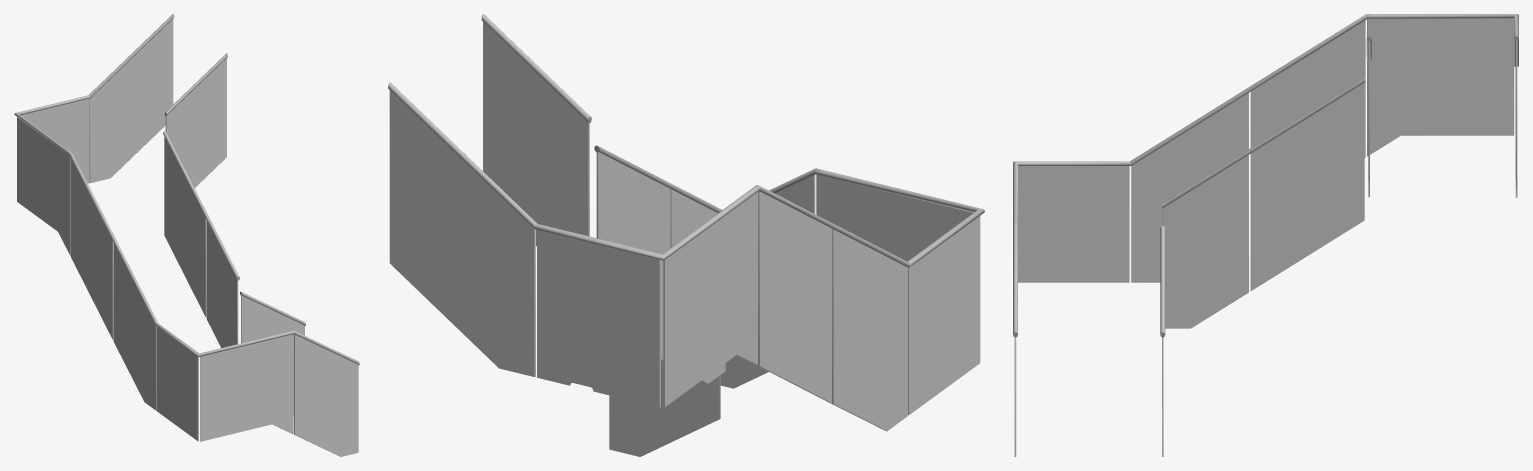
Rendered from U-Shaped_Railing_Optik-Boss_Wood-Cap.gltf.
3 views of the same model, side by side, from view 1: azimuth 30°, elevation 25°; view 2: azimuth 150°, elevation 25°; view 3: azimuth 270°, elevation 25° (orthographic). The views are drawn at different scales.
Parts seen in each view (by area): view 1: Casework 2 Casework 1 [8743341]001, Casework 4 Casework 1 [8744916]002, Casework 4 Casework 1 [8744916]004, Casework 2 Casework 1 [8743341]003, Casework 6 Casework 1 [8445804]002, Object010, Casework 5 Casework 1 [8445778]001, Casework 6 Casework 1 [8445804]004, Generic Models 11 Generic Models 11 [8762451]008, Generic Models 11 Generic Models 11 [8762451]003, Generic Models 7 Generic Models 1 [8445814]002, Object012; view 2: Casework 2 Casework 1 [8743341]001, Casework 4 Casework 1 [8744916]002, Casework 2 Casework 1 [8743341]003, Casework 5 Casework 1 [8445778]001, Casework 6 Casework 1 [8445804]002, Casework 4 Casework 1 [8744916]004, Casework 6 Casework 1 [8445804]004, Generic Models 11 Generic Models 11 [8762451]003, Generic Models 11 Generic Models 11 [8762451]008, Object010, Generic Models 11 Generic Models 11 [8762451]004, Generic Models 7 Generic Models 1 [8445814]002; view 3: Casework 6 Casework 1 [8445804]002, Casework 4 Casework 1 [8744916]002, Casework 2 Casework 1 [8743341]003, Generic Models 11 Generic Models 11 [8762451]008, Generic Models 7 Generic Models 1 [8445814]002, Generic Models 11 Generic Models 11 [8762451]003, Object012, Generic Models 7 Generic Models 1 [8445814]004, Object005.
Boxes of the visible parts, bbox=[...] form: Casework 2 Casework 1 [8743341]001: bbox=[21, 19, 173, 183]; Casework 4 Casework 1 [8744916]002: bbox=[17, 117, 113, 339]; Casework 4 Casework 1 [8744916]004: bbox=[200, 334, 293, 441]; Casework 2 Casework 1 [8743341]003: bbox=[113, 243, 198, 441]; Casework 6 Casework 1 [8445804]002: bbox=[164, 137, 238, 347]; Object010: bbox=[294, 334, 358, 456]; Casework 5 Casework 1 [8445778]001: bbox=[165, 58, 226, 187]; Casework 6 Casework 1 [8445804]004: bbox=[241, 295, 304, 415]; Generic Models 11 Generic Models 11 [8762451]008: bbox=[107, 227, 290, 356]; Generic Models 11 Generic Models 11 [8762451]003: bbox=[14, 14, 174, 153]; Generic Models 7 Generic Models 1 [8445814]002: bbox=[163, 131, 239, 280]; Object012: bbox=[67, 151, 109, 228]; Casework 2 Casework 1 [8743341]001: bbox=[389, 90, 660, 407]; Casework 4 Casework 1 [8744916]002: bbox=[663, 191, 832, 407]; Casework 2 Casework 1 [8743341]003: bbox=[832, 216, 980, 431]; Casework 5 Casework 1 [8445778]001: bbox=[483, 22, 589, 246]; Casework 6 Casework 1 [8445804]002: bbox=[596, 152, 725, 383]; Casework 4 Casework 1 [8744916]004: bbox=[816, 174, 972, 261]; Casework 6 Casework 1 [8445804]004: bbox=[609, 360, 720, 456]; Generic Models 11 Generic Models 11 [8762451]003: bbox=[388, 82, 756, 260]; Generic Models 11 Generic Models 11 [8762451]008: bbox=[821, 170, 984, 267]; Object010: bbox=[720, 175, 815, 388]; Generic Models 11 Generic Models 11 [8762451]004: bbox=[481, 14, 591, 123]; Generic Models 7 Generic Models 1 [8445814]002: bbox=[594, 145, 721, 212]; Casework 6 Casework 1 [8445804]002: bbox=[1163, 83, 1364, 328]; Casework 4 Casework 1 [8744916]002: bbox=[1250, 18, 1514, 157]; Casework 2 Casework 1 [8743341]003: bbox=[1018, 93, 1248, 282]; Generic Models 11 Generic Models 11 [8762451]008: bbox=[1013, 78, 1263, 223]; Generic Models 7 Generic Models 1 [8445814]002: bbox=[1162, 77, 1365, 207]; Generic Models 11 Generic Models 11 [8762451]003: bbox=[1373, 14, 1518, 66]; Object012: bbox=[1264, 14, 1372, 82]; Generic Models 7 Generic Models 1 [8445814]004: bbox=[1160, 226, 1165, 337]; Object005: bbox=[1013, 222, 1017, 337].
Bounding box in the file's own units: 2.02 × 3.65 × 3.99.
